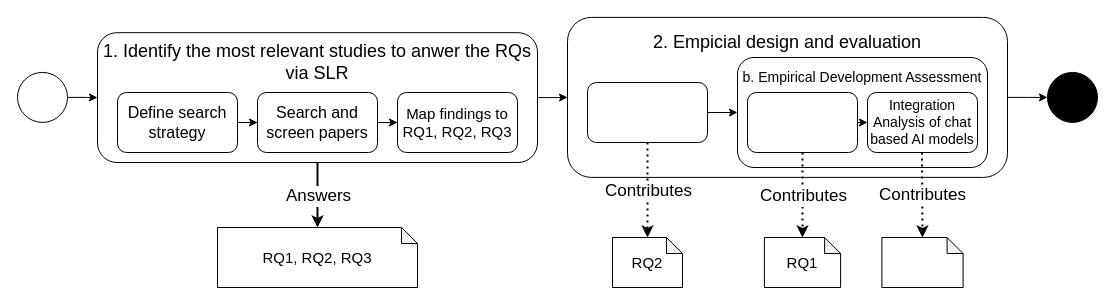
This 1115x306 diagram has some shape labels left out. Here are the shapes that lost their labels. From the top down, the centre of each, then its label:
At point 647,112: "a.Security Analysis of AI generated code".
At point 802,122: "Quality Analysis of an agentic tool".
At point 922,262: "RQ1, RQ3".
